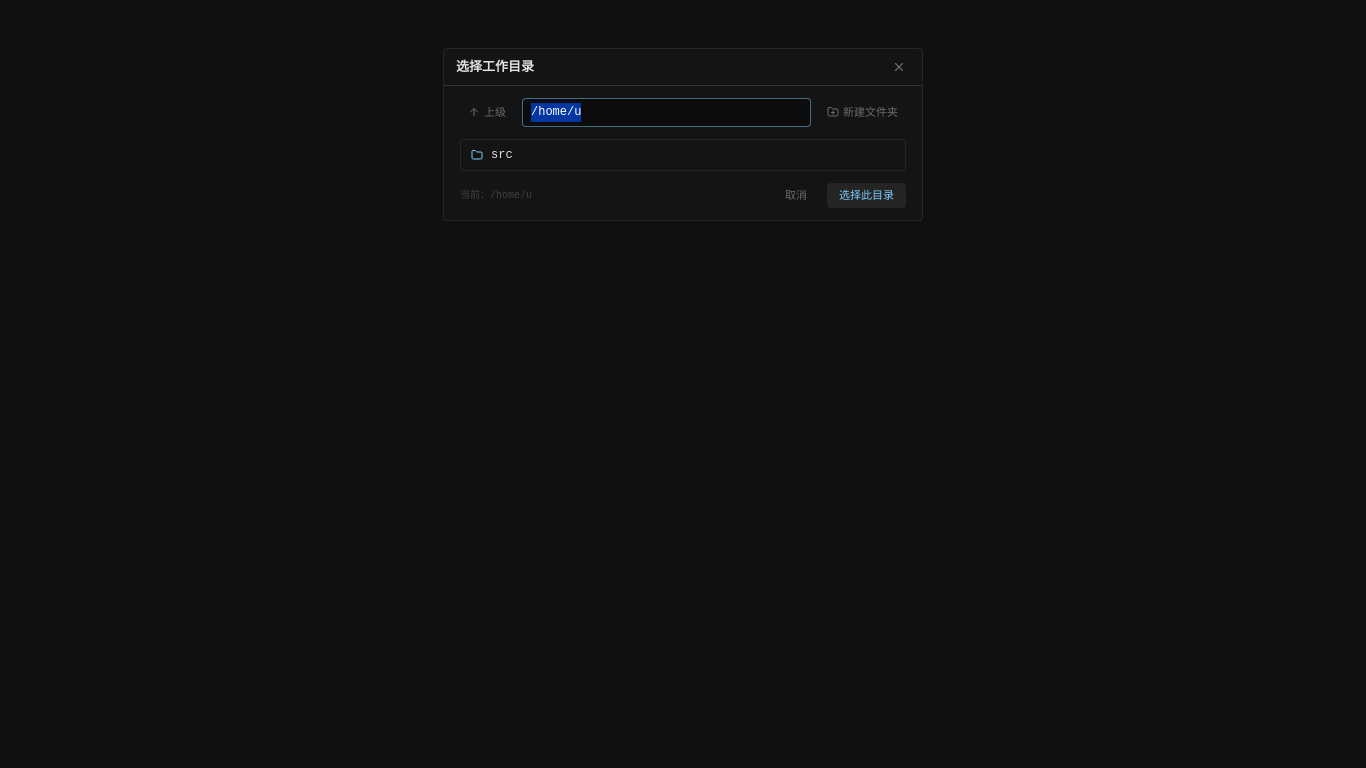
Scenario: DirectoryPickerModal › 点目录行 → 用该行返回的 path 继续列（不拼接）
Click the button "src" at (477, 155), box [461,140,905,170]
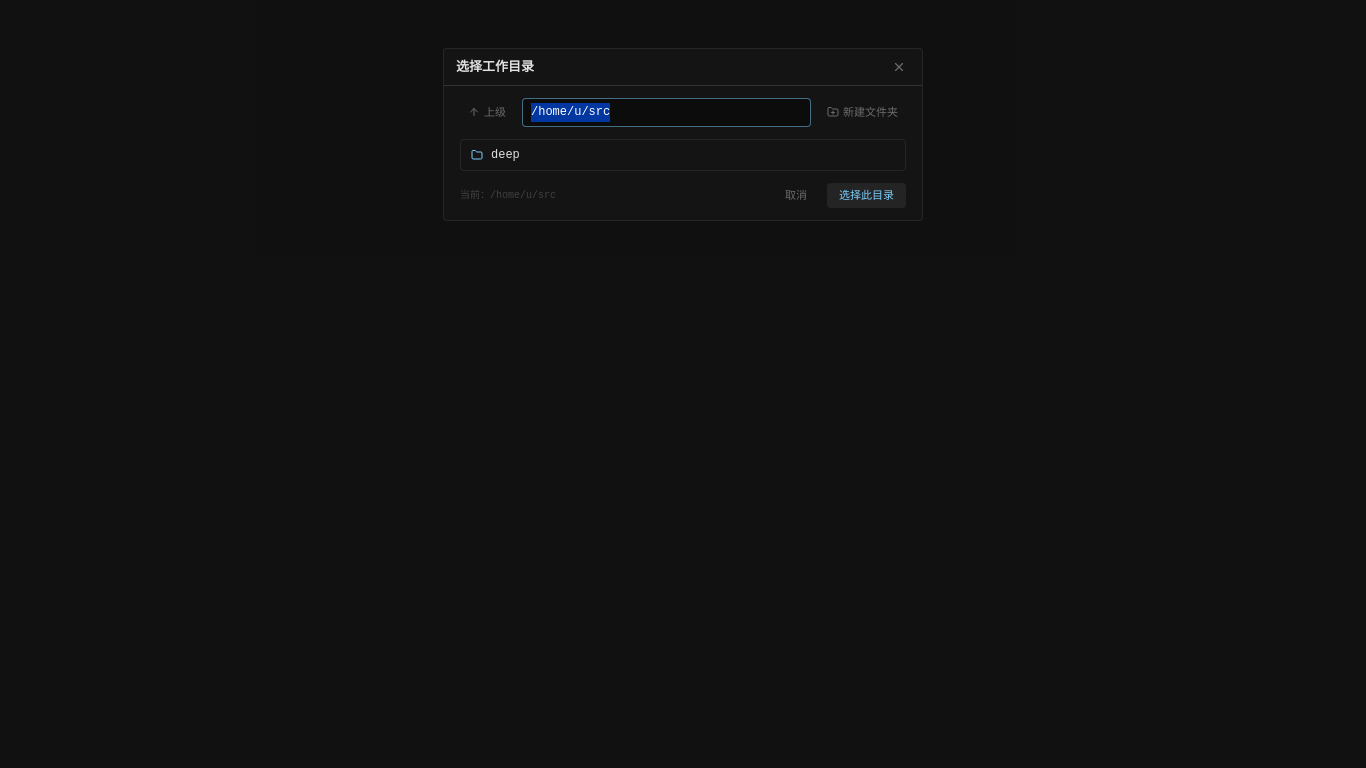
Check: the button "deep" is shown, box [461,140,905,170]
